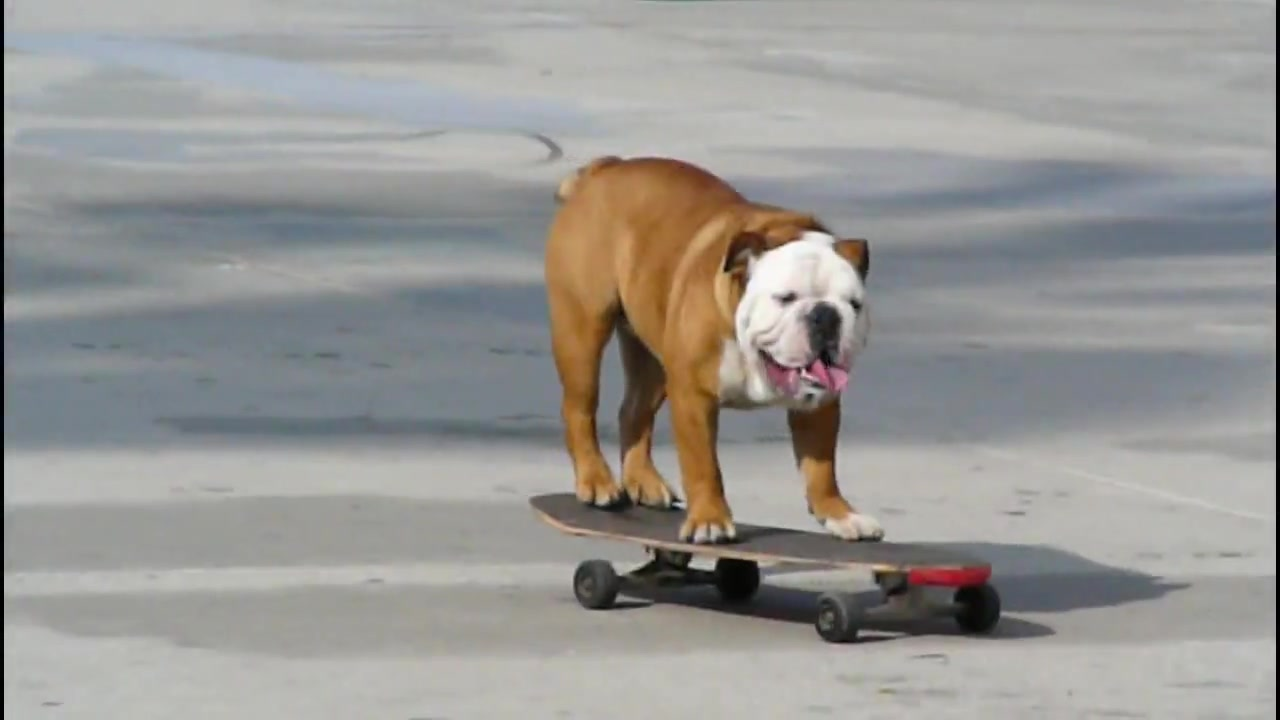dog: (540, 146, 892, 550)
